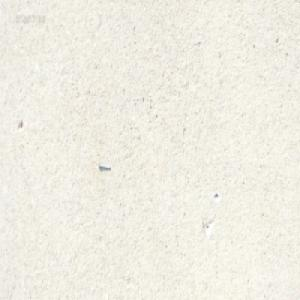Nail: (97, 161, 110, 169)
